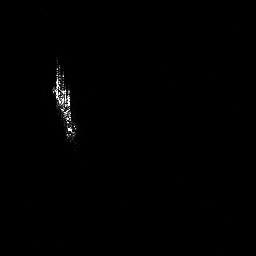ship: (49, 57, 79, 144)
